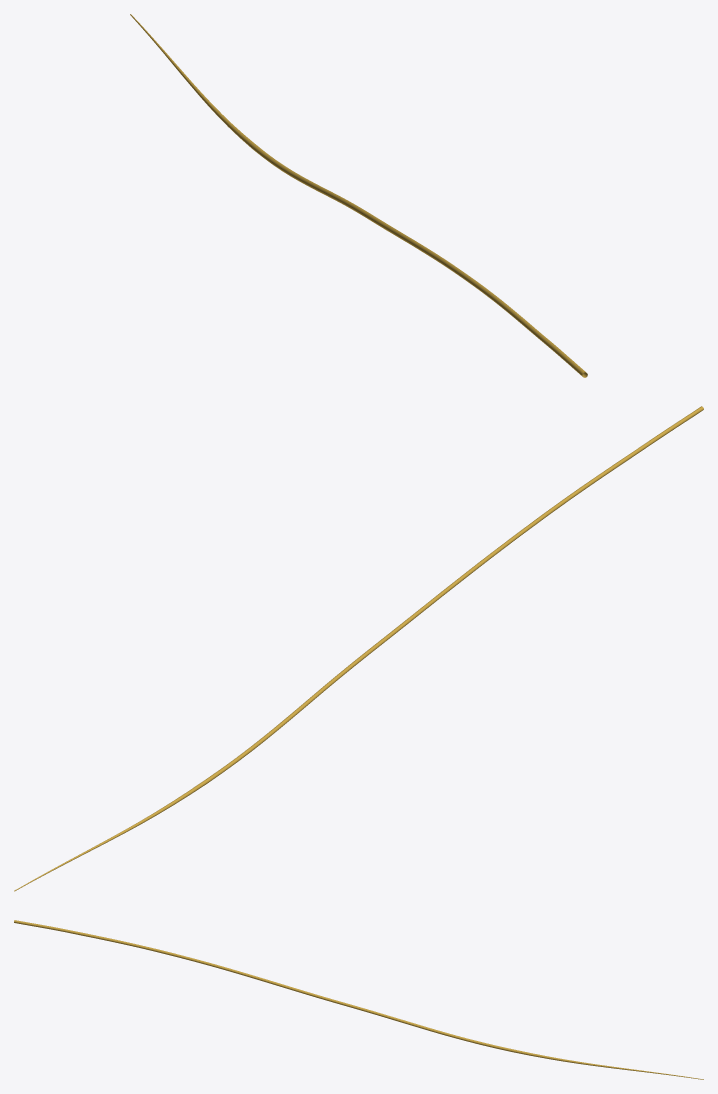
3 views of the same model, one above another, from view 1: azimuth 30°, elevation 25°; view 2: azimuth 150°, elevation 25°; view 3: azimuth 270°, elevation 25° (orthographic). The views are drawn at different scales.
Parts seen in each view (by area): view 1: 左侧前臂内侧皮神经前支; view 2: 左侧前臂内侧皮神经前支; view 3: 左侧前臂内侧皮神经前支.
Part boxes in pixels (<box>): 左侧前臂内侧皮神经前支: <box>130,14,587,377</box>; 左侧前臂内侧皮神经前支: <box>14,406,703,891</box>; 左侧前臂内侧皮神经前支: <box>14,920,703,1079</box>.
Size of the model in its own units: 0.069 by 0.0567 by 0.3459.
